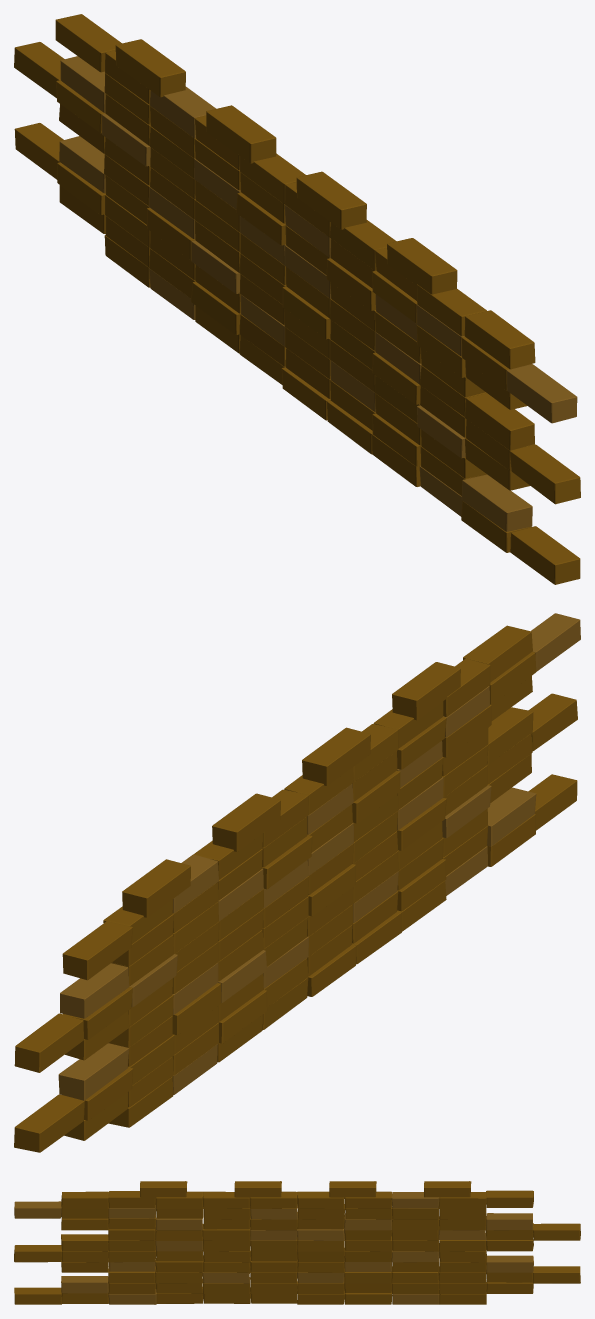
File: Wall_Tile.fbx
3 views of the same model, one above another, from view 1: azimuth 30°, elevation 25°; view 2: azimuth 150°, elevation 25°; view 3: azimuth 270°, elevation 25° (orthographic). The views are drawn at different scales.
Visible parts, largest first — view 1: Cube, Cube.009; view 2: Cube, Cube.009; view 3: Cube, Cube.009.
Boxes of the visible parts, x1=… form: Cube: x1=14, y1=14, x2=580, y2=584; Cube.009: x1=115, y1=39, x2=457, y2=294; Cube: x1=14, y1=613, x2=580, y2=1152; Cube.009: x1=122, y1=662, x2=460, y2=917; Cube: x1=14, y1=1190, x2=580, y2=1304; Cube.009: x1=140, y1=1181, x2=471, y2=1198.
Bounding box in the file's own units: 0.6619 × 4.69 × 20.73.
